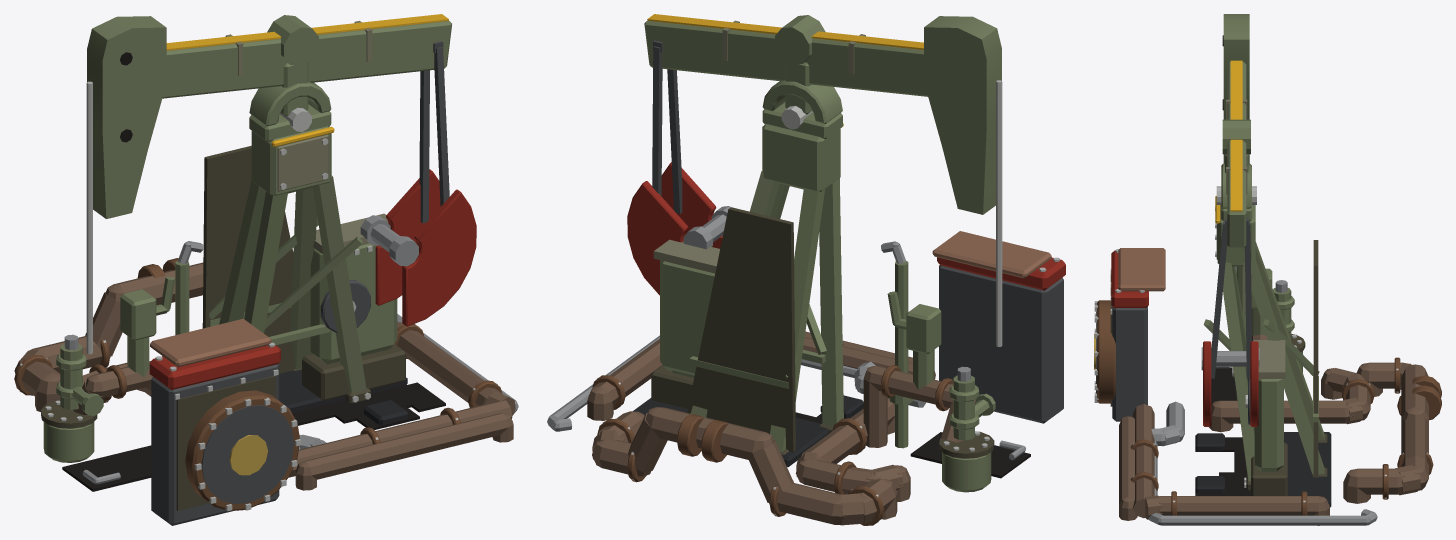
The model's file is pumpjack-south.glb.
3 renders of one model, left to right at view 1: azimuth 30°, elevation 25°; view 2: azimuth 150°, elevation 25°; view 3: azimuth 270°, elevation 25°, orthographic. The views are drawn at different scales.
Parts seen in each view (by area): view 1: anim_upright_still, body, anim_upright_rock_beam, anim_upright_spin_crank; view 2: anim_upright_still, body, anim_upright_rock_beam, anim_upright_spin_crank; view 3: body, anim_upright_still, anim_upright_rock_beam, anim_upright_spin_crank.
Boxes of the visible parts, x1,y1,x2,y2 form: anim_upright_still: [41, 41, 449, 491]; body: [14, 258, 518, 525]; anim_upright_rock_beam: [87, 14, 451, 218]; anim_upright_spin_crank: [360, 169, 476, 326]; anim_upright_still: [633, 40, 1030, 492]; body: [547, 231, 1065, 525]; anim_upright_rock_beam: [644, 14, 1001, 214]; anim_upright_spin_crank: [627, 162, 730, 295]; body: [1094, 248, 1441, 525]; anim_upright_still: [1195, 163, 1331, 507]; anim_upright_rock_beam: [1222, 14, 1250, 247]; anim_upright_spin_crank: [1201, 341, 1259, 426].
Size of the model in its own units: 3.26 by 3.45 by 2.94.
